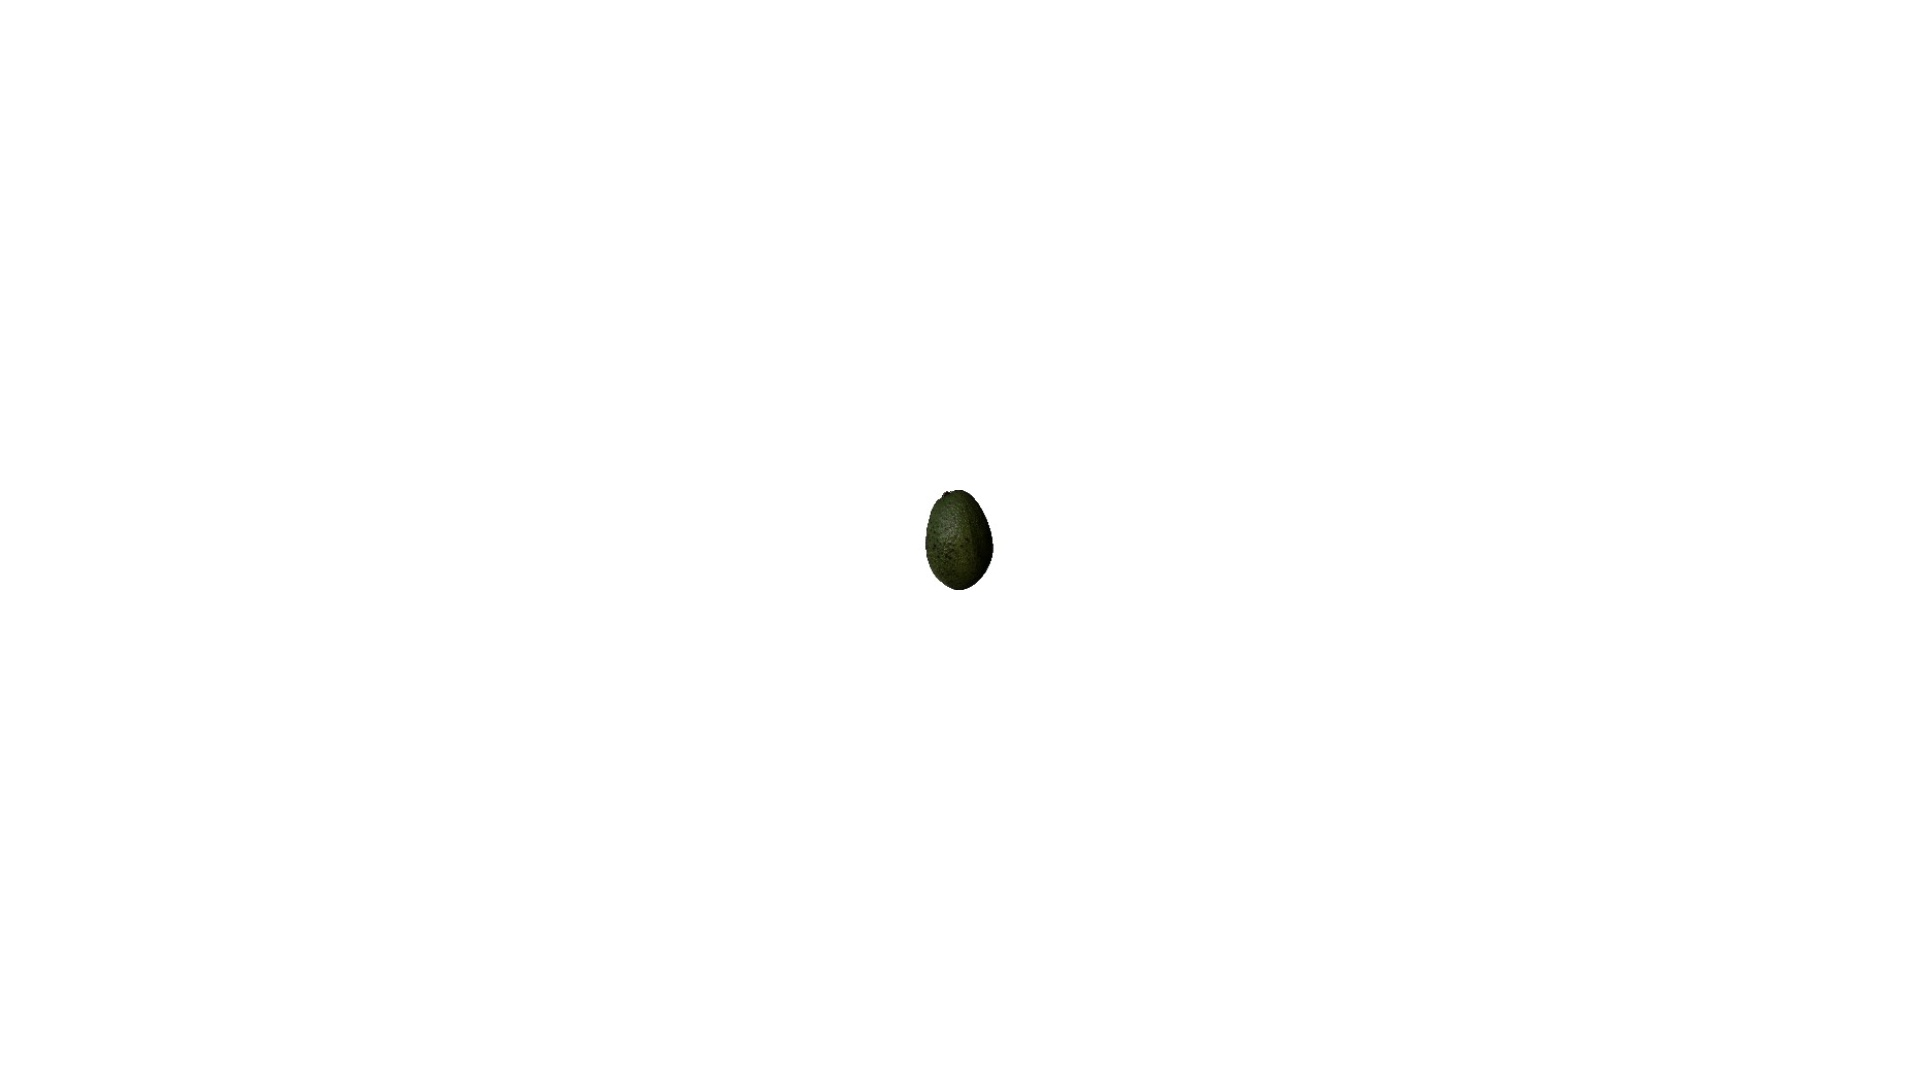abacate: (924, 487, 996, 592)
